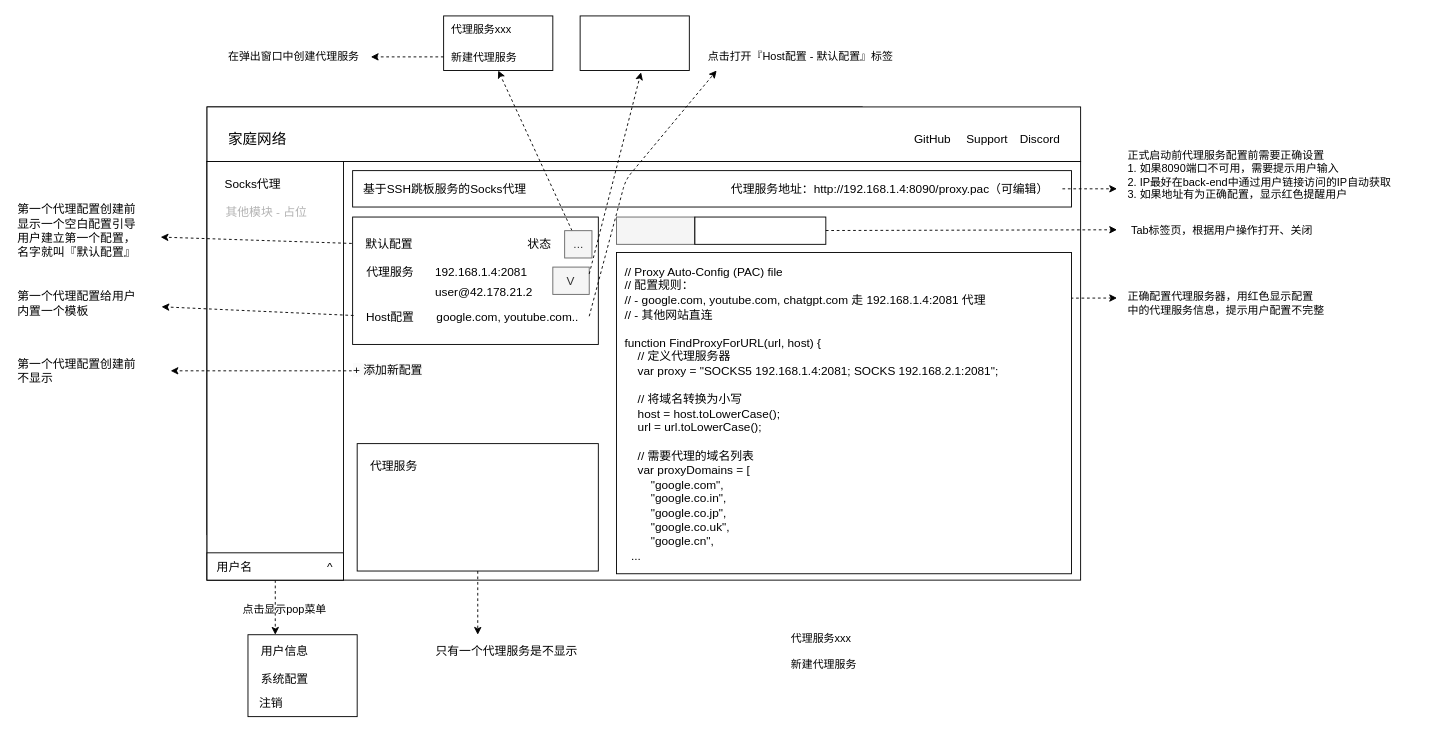
The diagram is 1432 pixels wide and 733 high, and some of its shapes have lost their labels. Each missing label, with the box of its shape:
Host配置 - 默认配置 x: (694, 216, 826, 244)
PAC配置预览: (616, 216, 695, 244)
停止/启动 删除代理服务: (579, 15, 689, 71)
